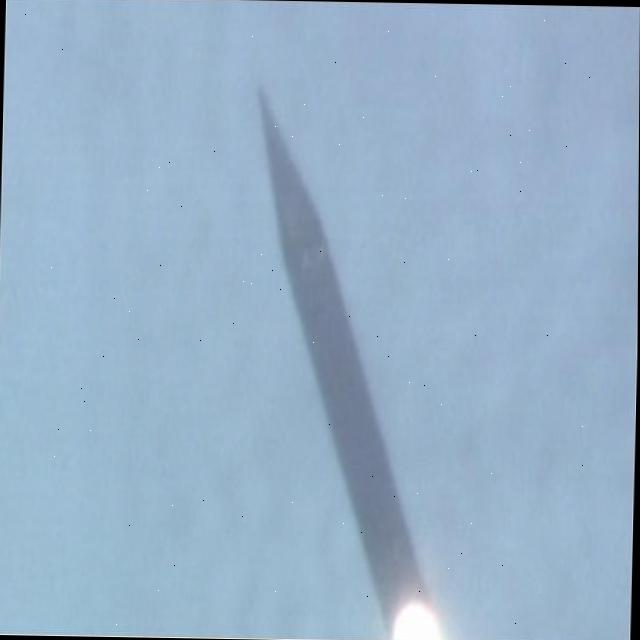missile: (244, 79, 436, 602)
